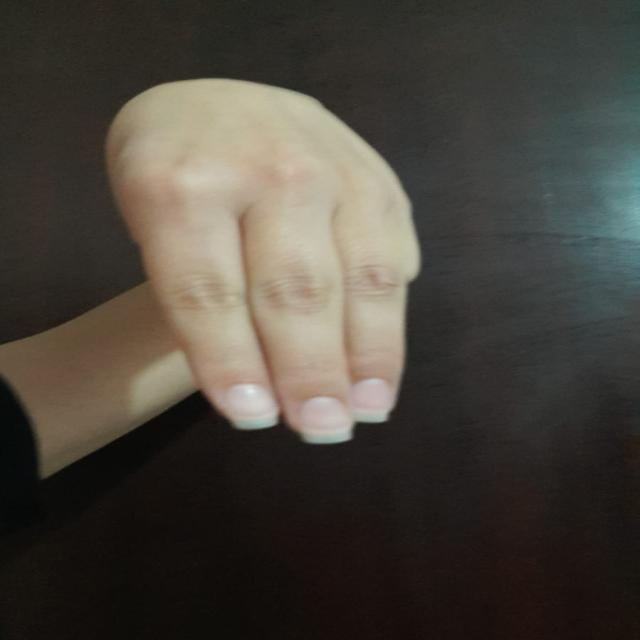M: (96, 66, 441, 456)
